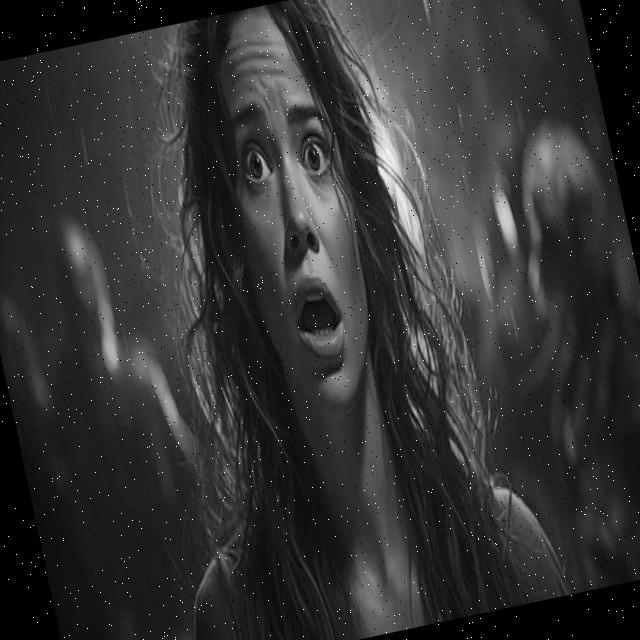Fear: (193, 0, 391, 416)
